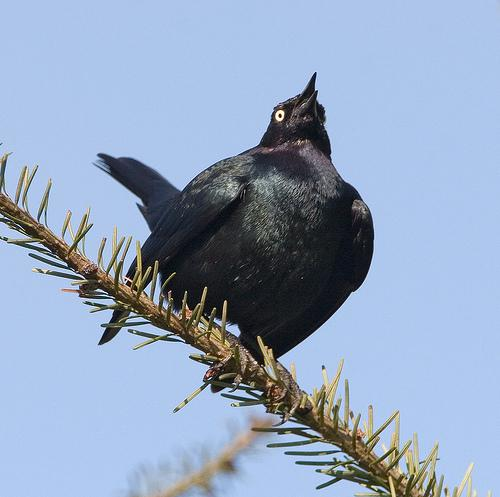009.Brewer_Blackbird: (82, 70, 376, 401)
